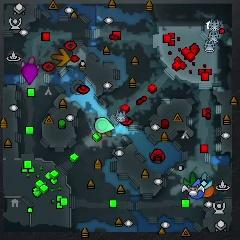p1: (188, 181, 206, 199)
p2: (94, 118, 115, 133)
p3: (22, 64, 38, 85)
p5: (204, 184, 215, 198)
x1: (21, 56, 39, 69)
x3: (198, 172, 214, 189)
x4: (183, 172, 199, 188)
x5: (51, 48, 71, 68)
